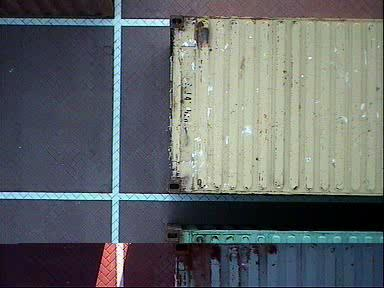groundmarker_2: (80, 91, 145, 136), (111, 217, 148, 288)
